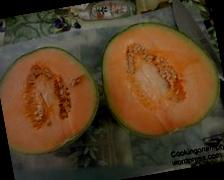Melon Ripe: (93, 11, 224, 144), (0, 38, 106, 160)
